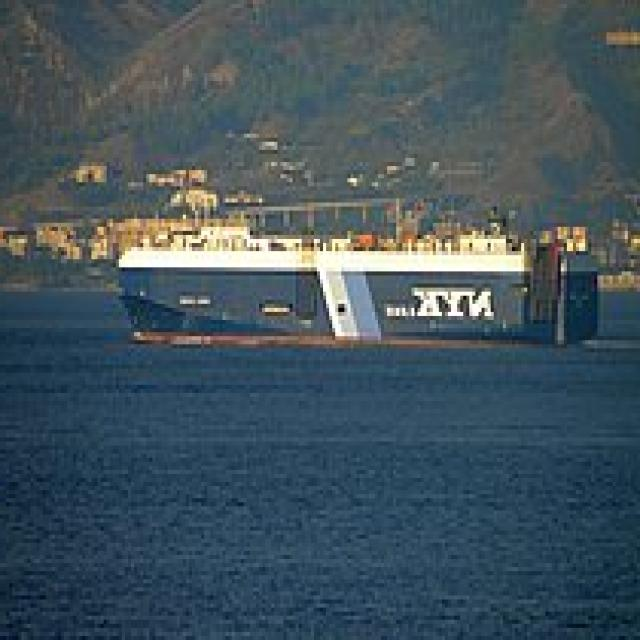Carrier: (116, 202, 606, 352)
